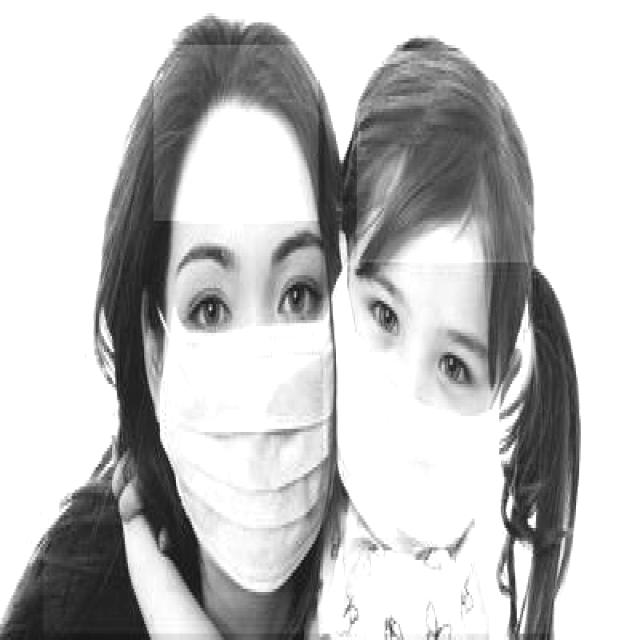face_mask: (165, 224, 334, 595), (331, 259, 507, 541)
head_nohelmet: (355, 51, 547, 266), (152, 45, 318, 224)
person: (41, 16, 342, 637), (323, 38, 597, 637)
